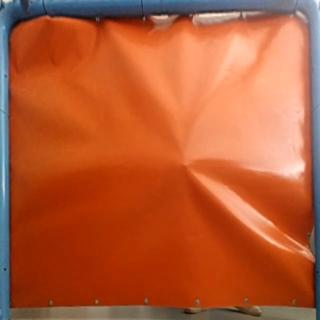Hit-hRxx: (176, 158, 194, 172)
